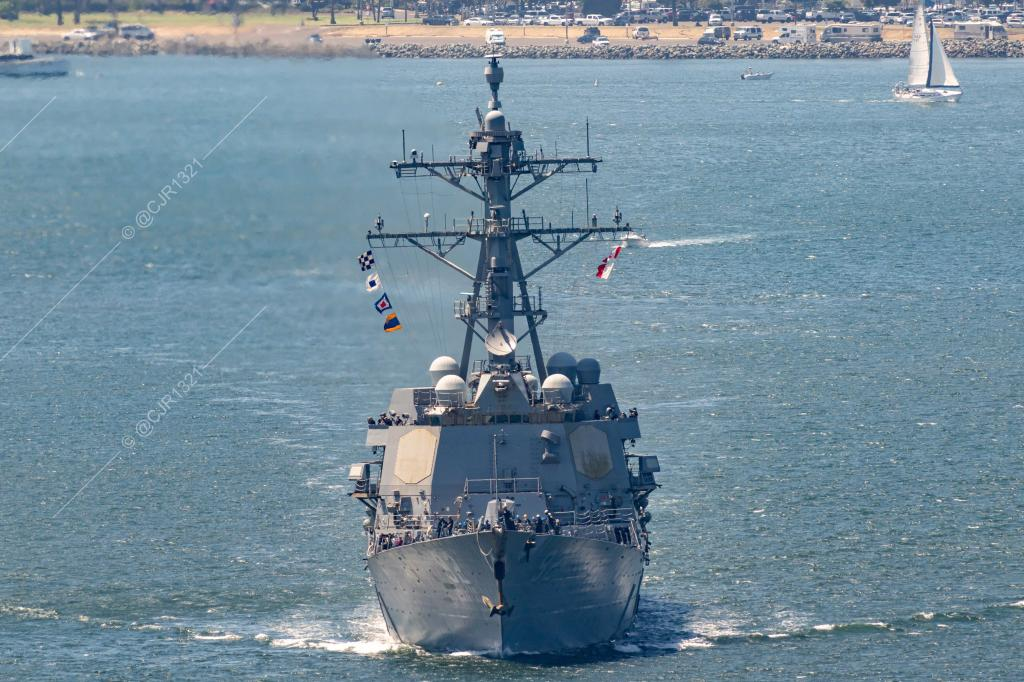Warship: (330, 46, 662, 658)
